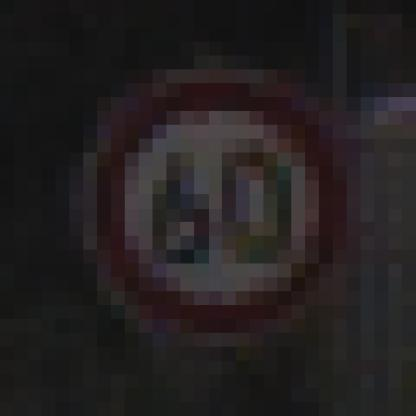Speed Limit 60: (89, 79, 341, 339)
